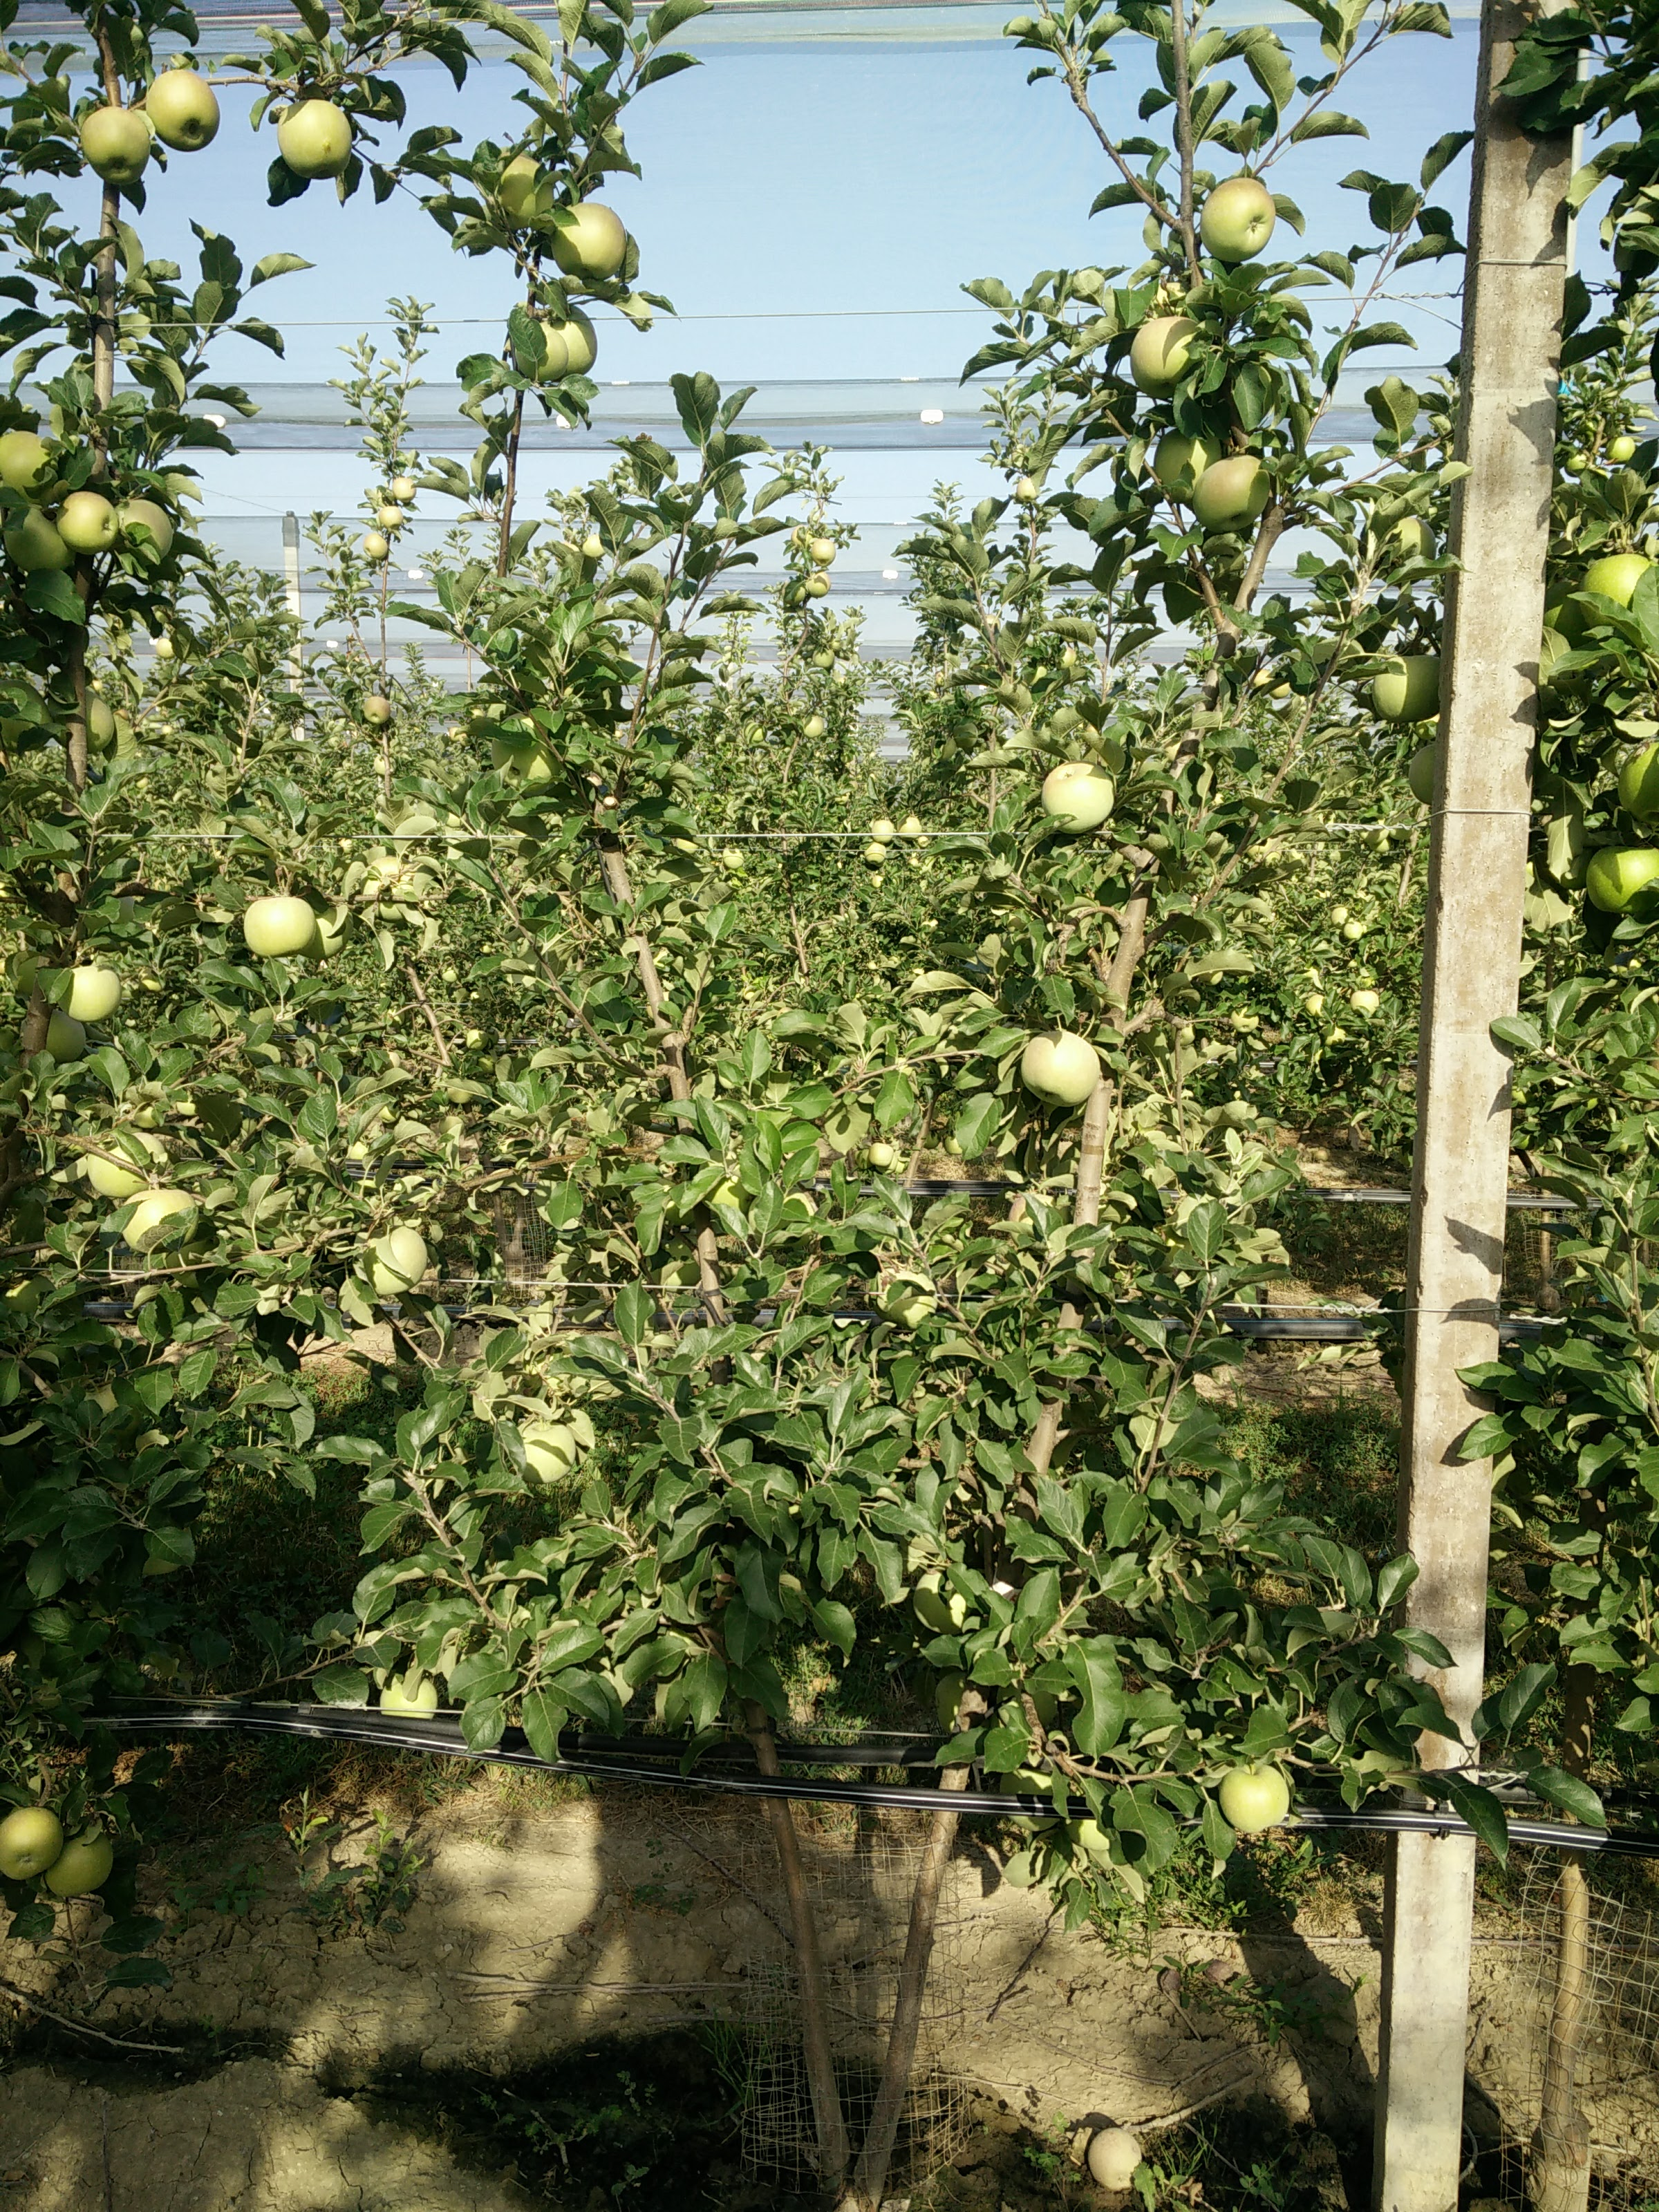apple: (1014, 1028, 1104, 1109), (142, 70, 226, 153), (274, 94, 353, 183), (1194, 452, 1277, 535), (1201, 174, 1277, 262), (550, 198, 627, 280), (1039, 759, 1121, 836), (499, 1413, 581, 1489), (1132, 319, 1208, 398), (118, 1188, 200, 1254), (80, 107, 153, 183), (1367, 648, 1443, 715), (45, 1833, 116, 1904), (241, 893, 315, 960), (1, 1805, 63, 1884), (1218, 1768, 1291, 1831), (53, 961, 123, 1024)
